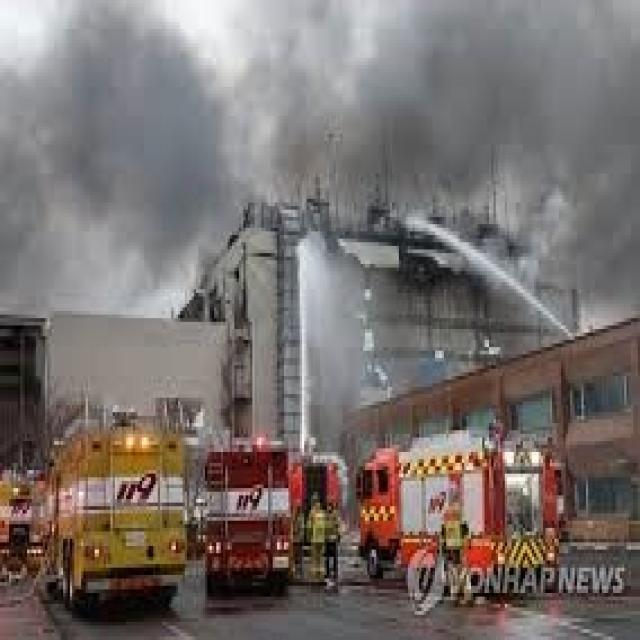Smoke: (0, 1, 275, 290), (413, 2, 640, 294), (0, 1, 148, 337)
